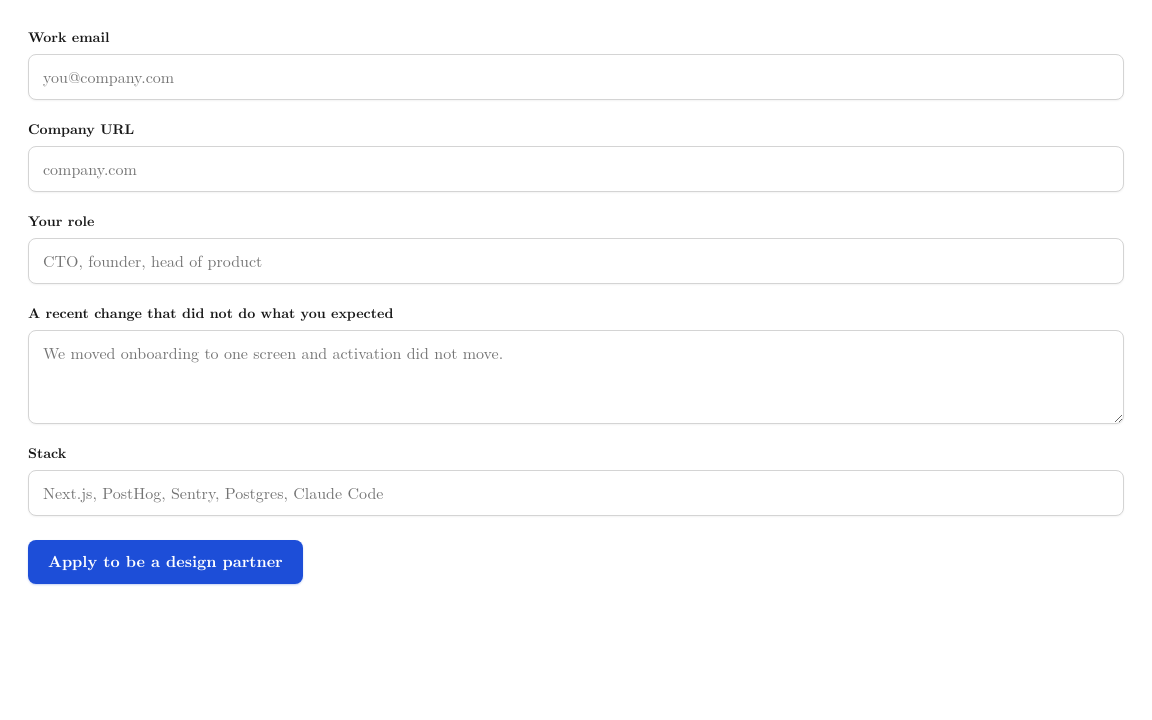
Test case: ApplyForm › on success swaps the form for the calendar step and tracks it
This screenshot has width=1152, height=720.
Type "cto@acme.dev" into the field labelled "Work email".
click(576, 77); type("cto@acme.dev")  # box 28,54 -> 1124,100
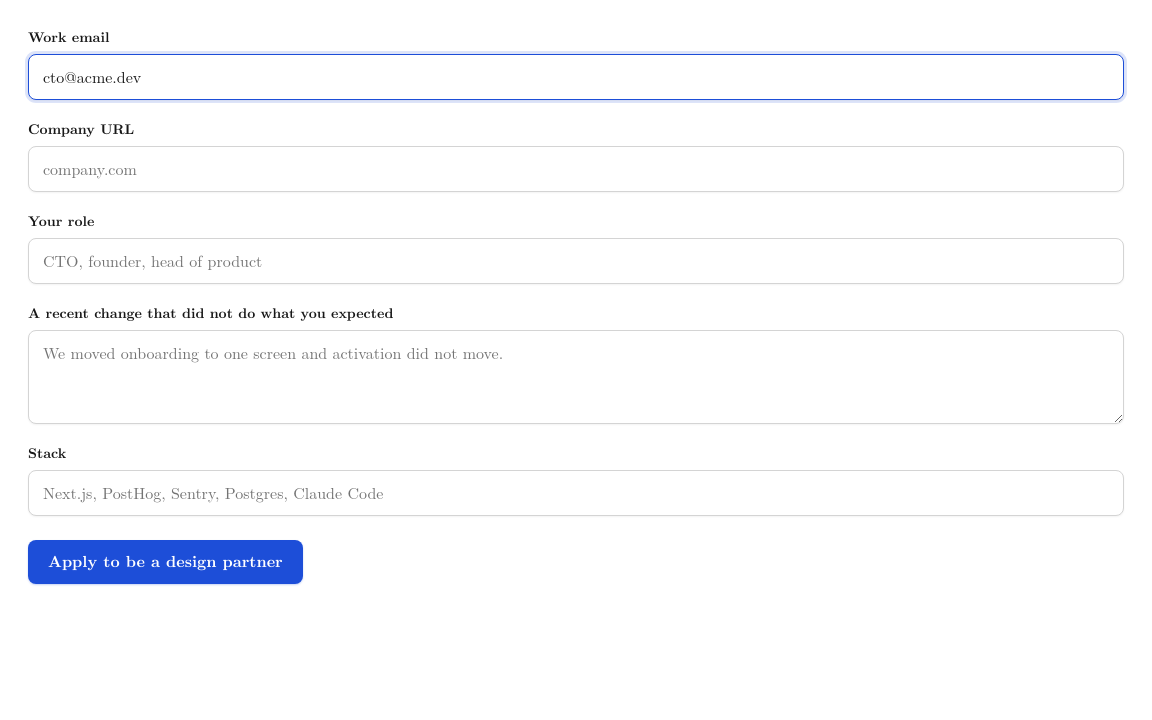
Type "acme.dev" into the field labelled "Company URL".
click(576, 169); type("acme.dev")  # box 28,146 -> 1124,192
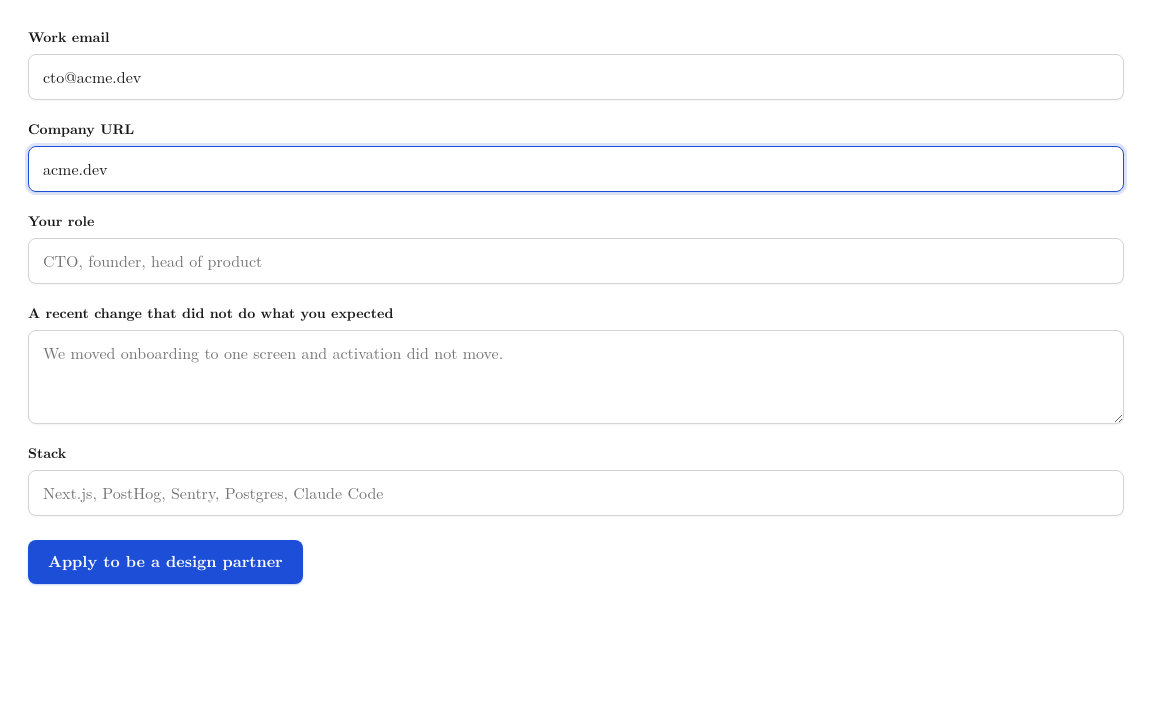
Type "CTO" into the field labelled "Your role".
click(576, 261); type("CTO")  # box 28,238 -> 1124,284
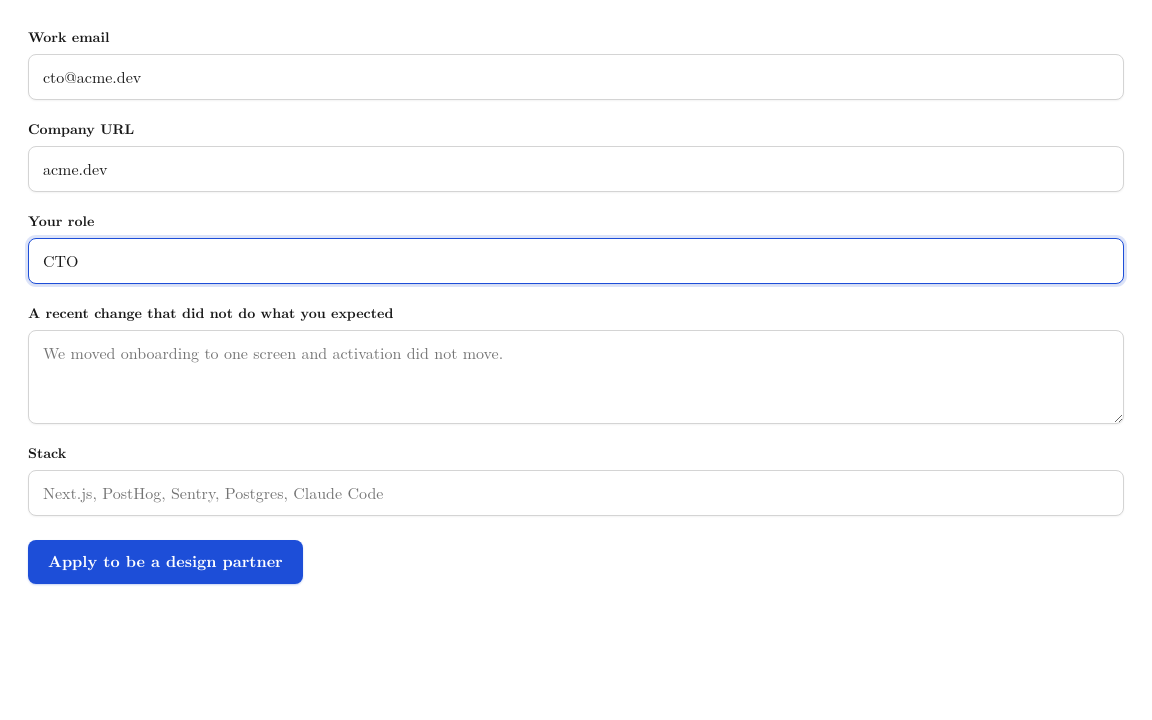
Type "We moved onboarding and nothing changed." into the text box labelled "A recent change that did not do what you expected".
click(576, 377); type("We moved onboarding and nothing changed.")  # box 28,330 -> 1124,424
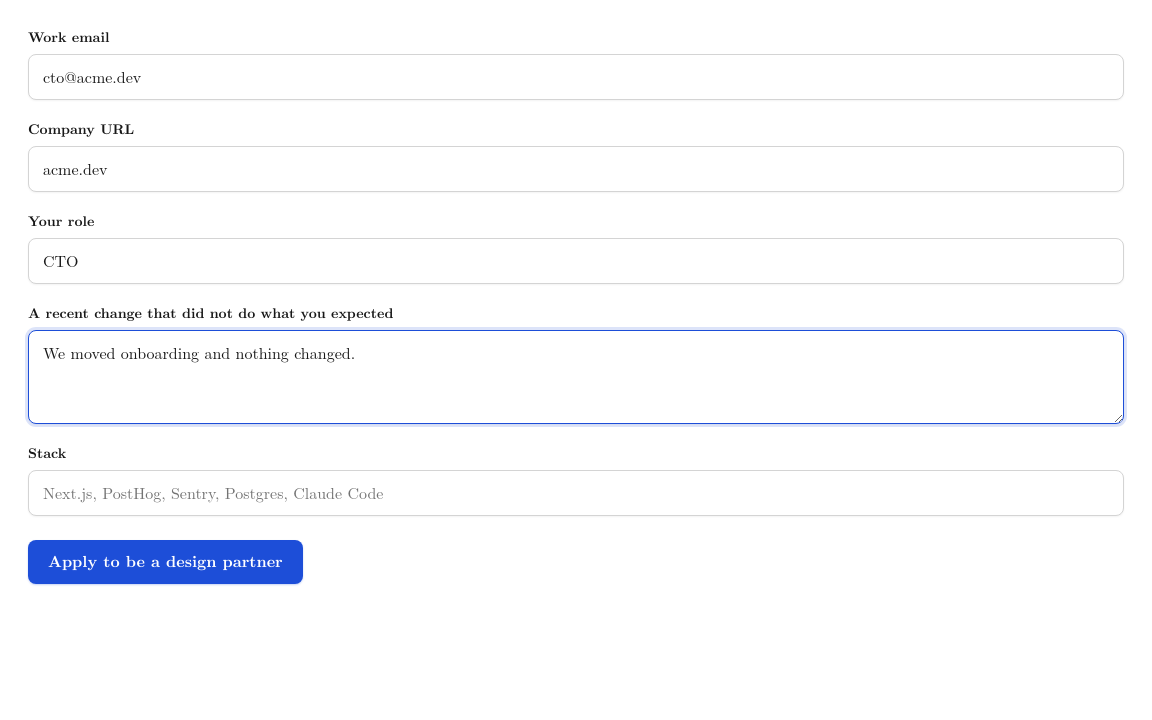
Type "Next.js, PostHog" into the field labelled "Stack".
click(576, 493); type("Next.js, PostHog")  # box 28,470 -> 1124,516
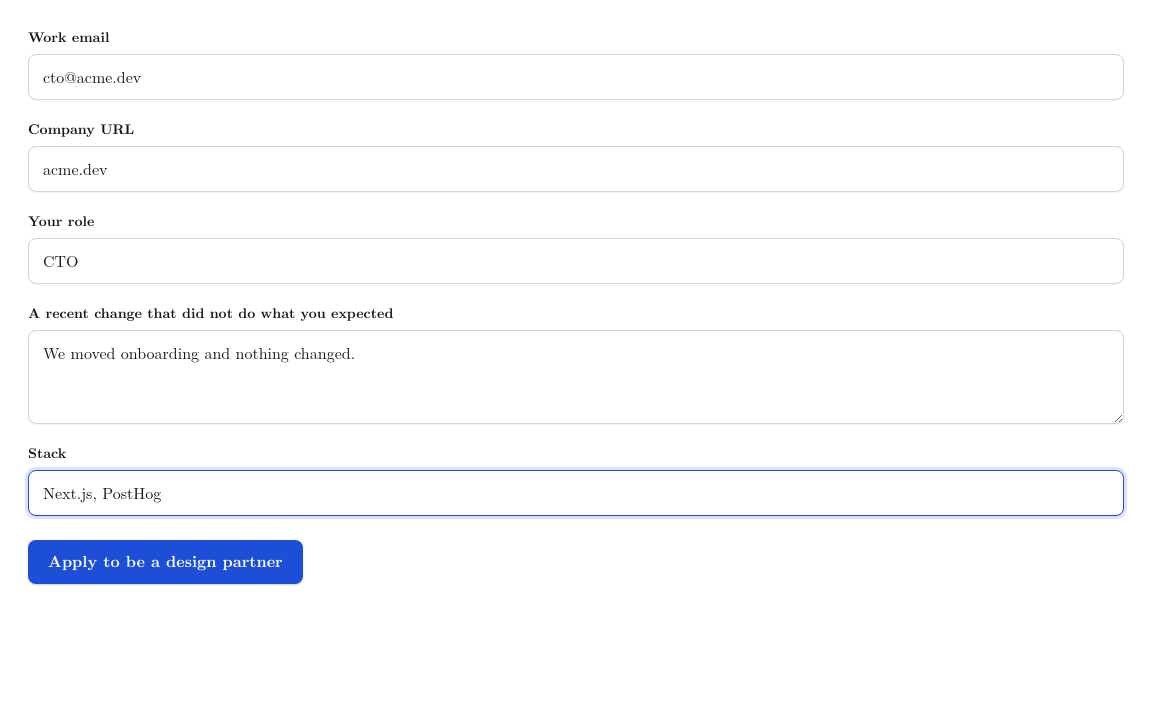
Click the button "Apply to be a design partner".
click(165, 562)  # box 28,540 -> 303,584
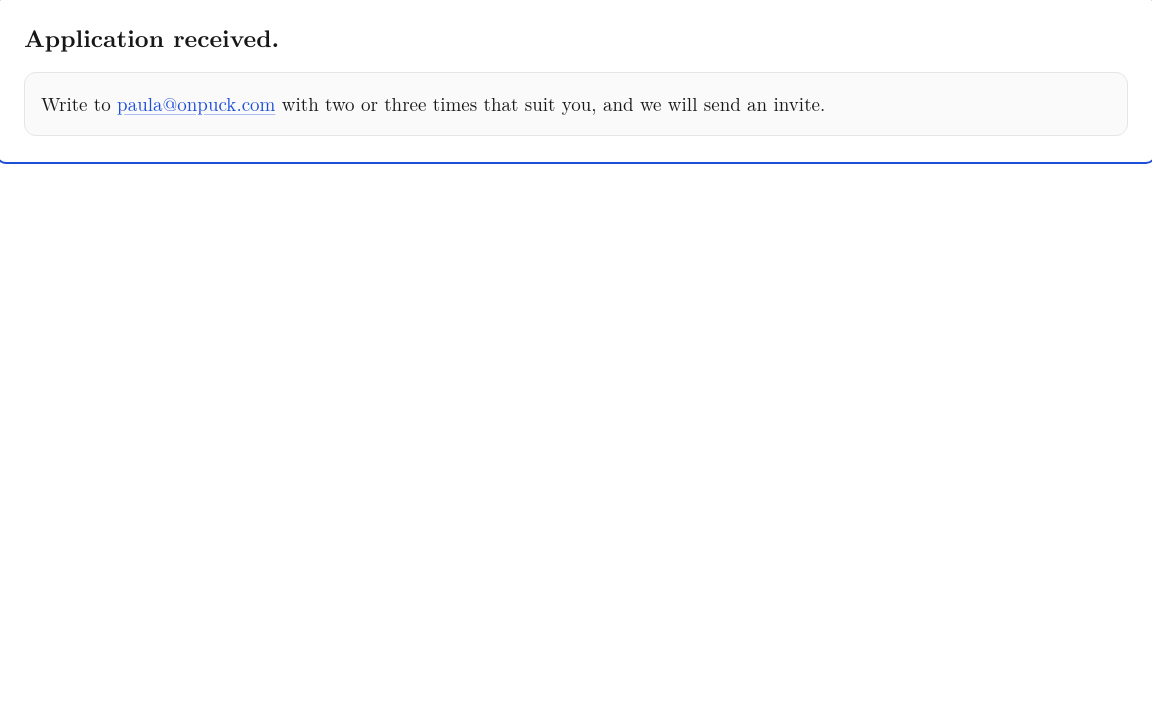
expect the text "Application received." is shown: met, box 24,25 -> 279,54
